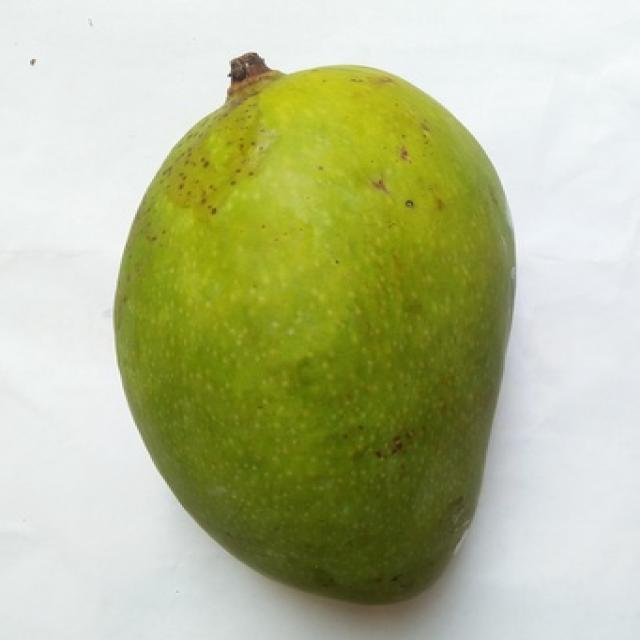Mango: (116, 67, 512, 601)
